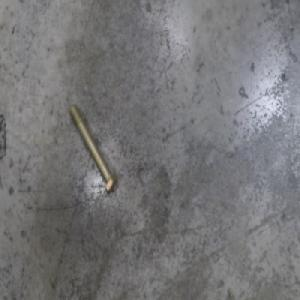Bolt: (68, 101, 117, 195)
